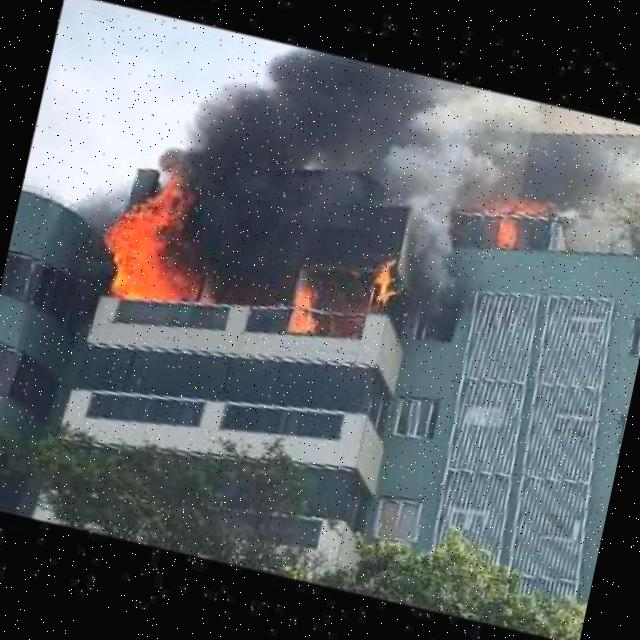fire: (85, 172, 222, 307), (482, 198, 546, 250), (371, 257, 411, 305), (293, 285, 325, 328)
